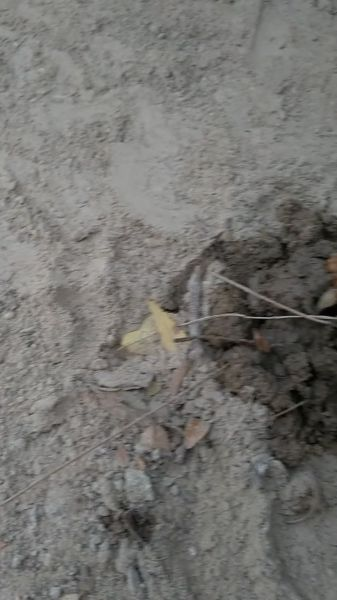eggs: (323, 243, 337, 290)
